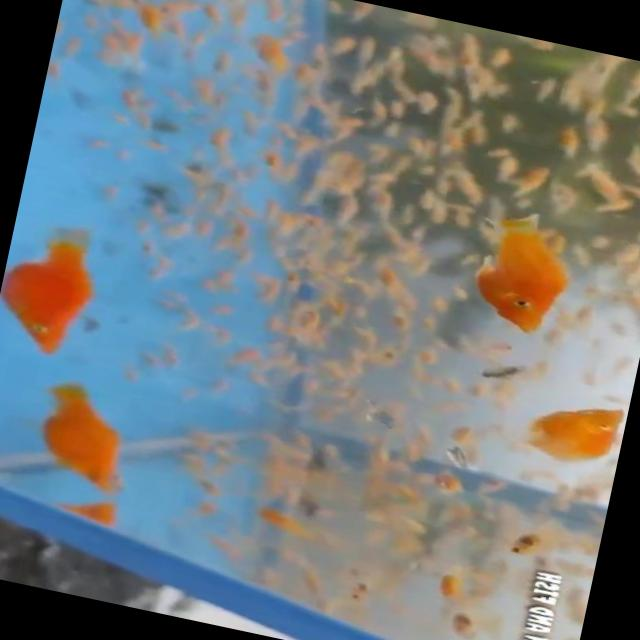PlatyFish: (450, 198, 606, 352), (15, 374, 156, 508), (0, 209, 116, 369), (518, 377, 630, 478)
